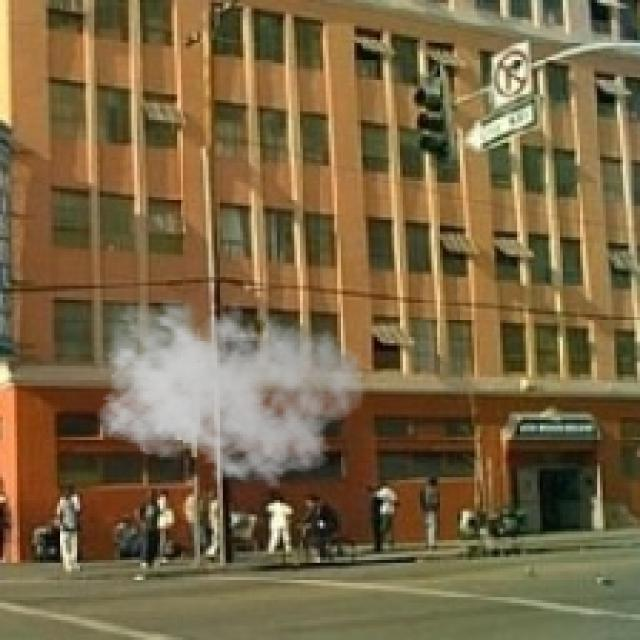smoke: (88, 288, 366, 488)
